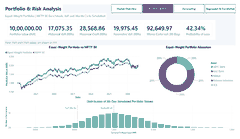

What the dashboard file says about the page in this screenshot:
{"tool":"powerbi","page":{"name":"Portfolio & Risk","canvas":[1280,720],"ordinal":1},"visuals":[{"type":"textbox","box":[0,0,323.5,48],"z":0},{"type":"textbox","box":[0,48,566.1,34.1],"z":1000},{"type":"cardVisual","fields":{"Data":["Risk_Summary.Risk Portfolio Value"]},"box":[0,85.9,242.6,109.9],"z":2000},{"type":"cardVisual","fields":{"Data":["Risk_Summary.Risk Historical VaR"]},"box":[213.5,85.9,200.9,109.9],"z":3000},{"type":"cardVisual","fields":{"Data":["Risk_Summary.Risk Historical CVaR"]},"box":[386.7,85.9,209.8,109.9],"z":4000},{"type":"cardVisual","fields":{"Data":["Risk_Summary.Risk Parametric VaR"]},"box":[574.9,85.9,216.1,109.9],"z":5000},{"type":"cardVisual","fields":{"Data":["Monte_Carlo_Summary.MC VaR"]},"box":[759.4,85.9,243.9,109.9],"z":6000},{"type":"cardVisual","fields":{"Data":["Monte_Carlo_Summary.MC Probability of Loss"]},"box":[976.7,85.9,190.8,109.9],"z":7000},{"type":"textbox","box":[0,195.9,302,31.6],"z":8000},{"type":"lineChart","title":"Equal-Weight Portfolio vs NIFTY 50","fields":{"Category":["Date_Table.Date"],"Y":["Max(Portfolio_Performance.Portfolio Value (INR))","Max(Portfolio_Performance.NIFTY 50 Investment Value (INR))"]},"box":[0,227.4,759.4,299.5],"z":9000},{"type":"donutChart","title":"Equal-Weight Portfolio Allocation","fields":{"Category":["Portfolio_Weights.Asset"],"Y":["Sum(Portfolio_Weights.Weight)"]},"box":[759.4,227.4,520.6,299.5],"z":10000},{"type":"clusteredColumnChart","title":"Distribution of 30-Day Simulated Portfolio Values","fields":{"Category":["Monte_Carlo_Distribution.Terminal Value Bins"],"Y":["CountNonNull(Monte_Carlo_Distribution.Simulation)"]},"box":[0,526.9,1280,193.3],"z":11000}]}

Visuals, with their boxes in screenshot pixels (x1, y1, x2, y2), scaled from the page's 1280x720 canvas onto the 240x139 screenshot:
textbox: 0, 0, 61, 9
textbox: 0, 9, 106, 16
cardVisual - Risk_Summary.Risk Portfolio Value: 0, 17, 45, 38
cardVisual - Risk_Summary.Risk Historical VaR: 40, 17, 78, 38
cardVisual - Risk_Summary.Risk Historical CVaR: 73, 17, 112, 38
cardVisual - Risk_Summary.Risk Parametric VaR: 108, 17, 148, 38
cardVisual - Monte_Carlo_Summary.MC VaR: 142, 17, 188, 38
cardVisual - Monte_Carlo_Summary.MC Probability of Loss: 183, 17, 219, 38
textbox: 0, 38, 57, 44
"Equal-Weight Portfolio vs NIFTY 50" lineChart: 0, 44, 142, 102
"Equal-Weight Portfolio Allocation" donutChart: 142, 44, 239, 102
"Distribution of 30-Day Simulated Portfolio Values" clusteredColumnChart: 0, 102, 239, 138
